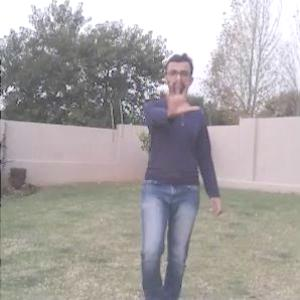follow_hand: (158, 69, 202, 118)
